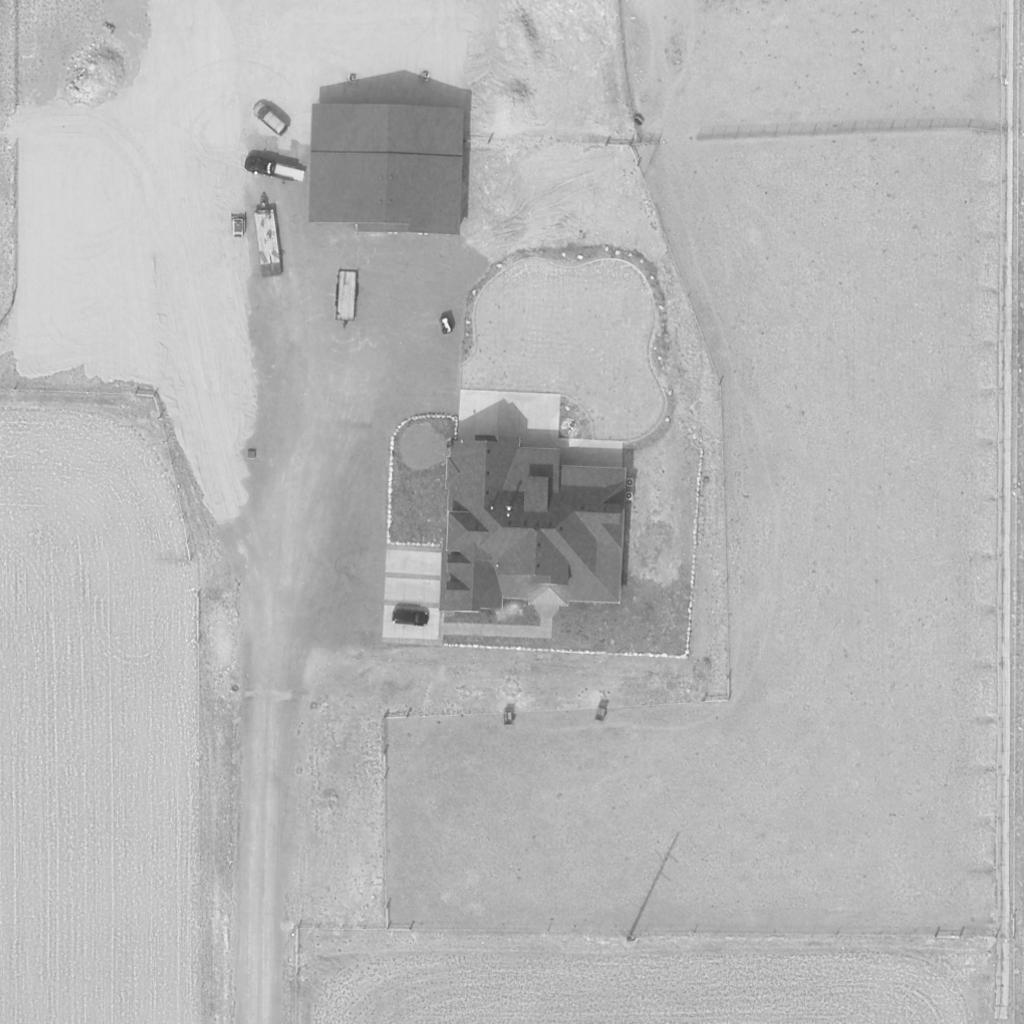vehicle: (242, 153, 300, 181), (250, 100, 290, 140), (393, 607, 431, 629)
